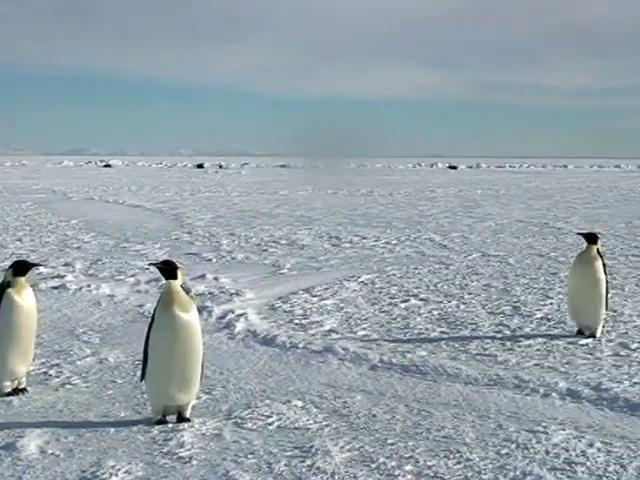animal: (141, 260, 205, 424)
